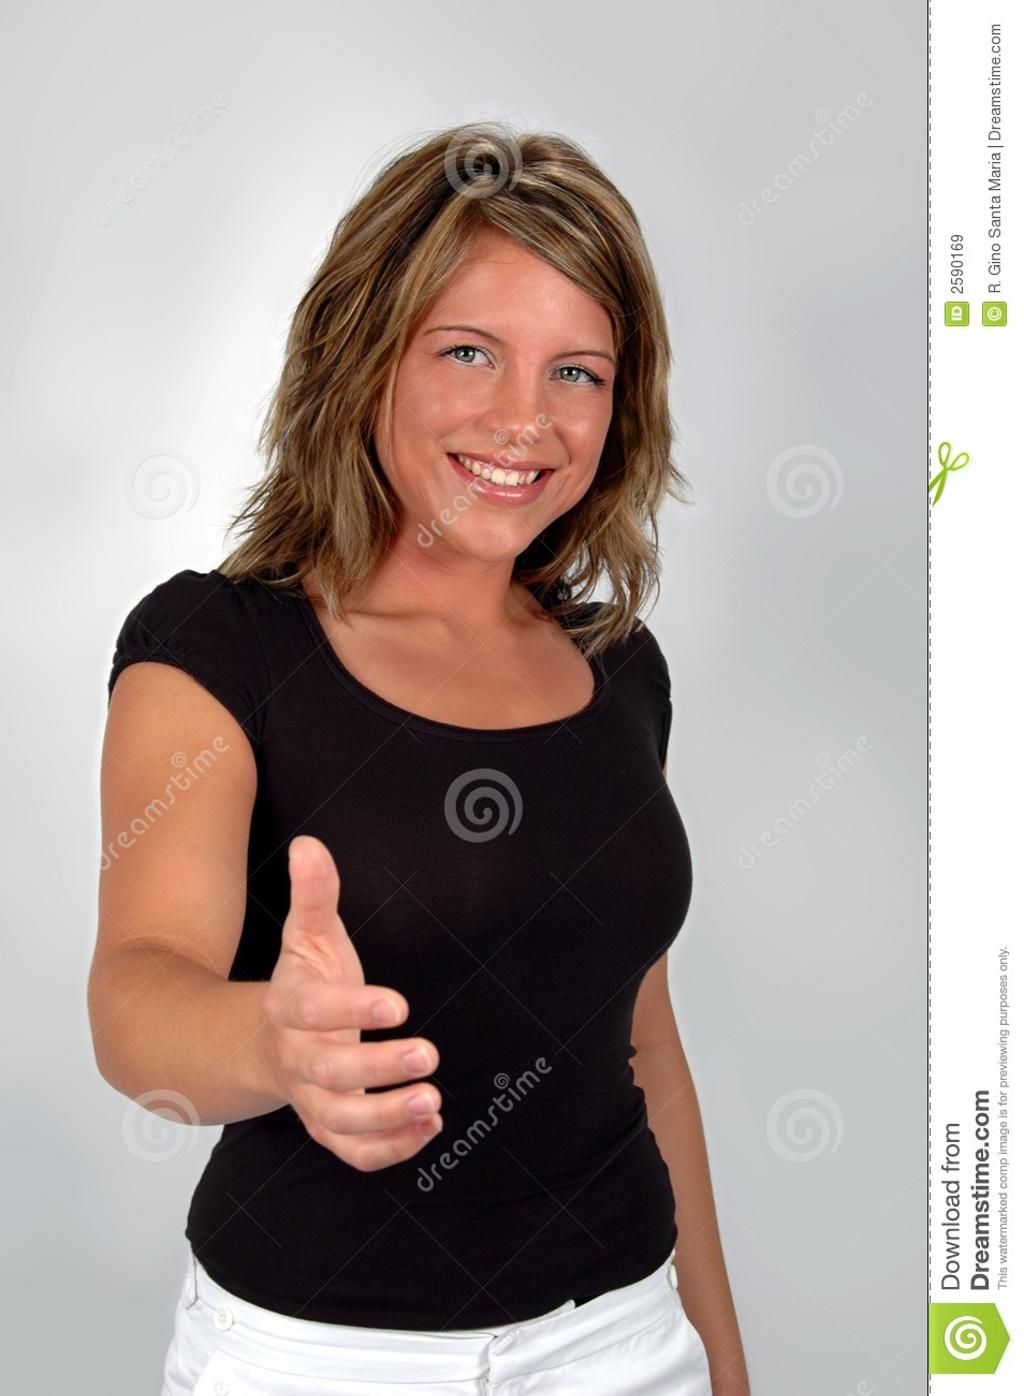face: (381, 207, 618, 561)
